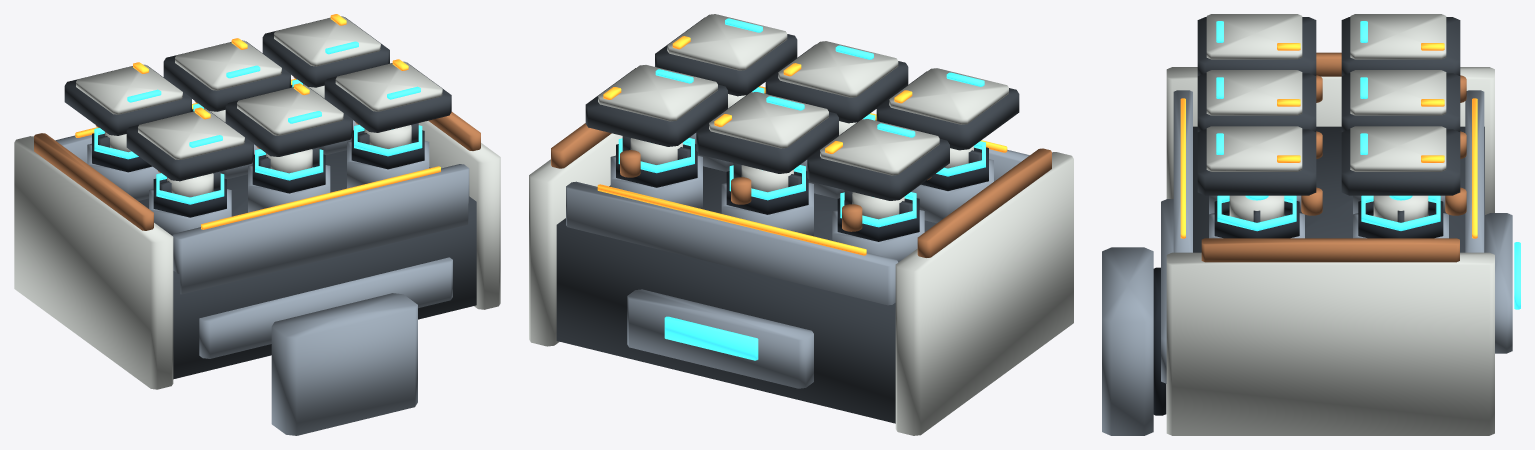
Rendered from M01-022_homing_drone_pod.glb.
3 views of the same model, side by side, from view 1: azimuth 30°, elevation 25°; view 2: azimuth 150°, elevation 25°; view 3: azimuth 270°, elevation 25° (orthographic). The views are drawn at different scales.
Visible parts, largest first — view 1: M01_022_Side_Armor_L, M01_022_Cross_Rail_Lower, M01_022_Mount_Top_Key, M01_022_Rear_Backbone, M01_022_Mount_Cross_Beam, M01_022_Side_Armor_R, M01_022_Side_Conduit_L, M01_022_Door_Ceramic_Face_03, M01_022_Door_Ceramic_Face_06, M01_022_Door_Ceramic_Face_01, M01_022_Door_Ceramic_Face_04, M01_022_Door_Ceramic_Face_05 (+24 smaller); view 2: M01_022_Side_Armor_L, M01_022_Rear_Backbone, M01_022_Cross_Rail_Upper, M01_022_Telemetry_Ridge, M01_022_Side_Armor_R, M01_022_Side_Conduit_L, M01_022_Door_Ceramic_Face_02, M01_022_Door_Ceramic_Face_03, M01_022_Door_Ceramic_Face_01, M01_022_Door_Ceramic_Face_06, M01_022_Door_Ceramic_Face_05, M01_022_Door_Ceramic_Face_04 (+28 smaller); view 3: M01_022_Side_Armor_R, M01_022_Mount_Top_Key, M01_022_Side_Conduit_R, M01_022_Rear_Backbone, M01_022_Side_Armor_L, M01_022_Door_Ceramic_Face_05, M01_022_Door_Ceramic_Face_02, M01_022_Door_Ceramic_Face_03, M01_022_Door_Ceramic_Face_06, M01_022_Door_Ceramic_Face_01, M01_022_Door_Ceramic_Face_04, M01_022_Armored_Door_06 (+22 smaller).
Boxes of the visible parts, x1,y1,x2,y2 form: M01_022_Side_Armor_L: (14, 136, 173, 389); M01_022_Cross_Rail_Lower: (172, 164, 469, 294); M01_022_Mount_Top_Key: (271, 293, 417, 435); M01_022_Rear_Backbone: (138, 150, 476, 379); M01_022_Mount_Cross_Beam: (199, 257, 452, 358); M01_022_Side_Armor_R: (418, 121, 500, 309); M01_022_Side_Conduit_L: (34, 133, 153, 230); M01_022_Door_Ceramic_Face_03: (335, 61, 442, 111); M01_022_Door_Ceramic_Face_06: (274, 16, 380, 66); M01_022_Door_Ceramic_Face_01: (138, 110, 244, 159); M01_022_Door_Ceramic_Face_04: (76, 64, 182, 114); M01_022_Door_Ceramic_Face_05: (175, 40, 281, 90); M01_022_Side_Armor_L: (895, 152, 1073, 435); M01_022_Rear_Backbone: (556, 166, 936, 423); M01_022_Cross_Rail_Upper: (566, 181, 898, 305); M01_022_Telemetry_Ridge: (627, 289, 813, 388); M01_022_Side_Armor_R: (529, 133, 622, 346); M01_022_Side_Conduit_L: (917, 148, 1051, 257); M01_022_Door_Ceramic_Face_02: (778, 41, 898, 97); M01_022_Door_Ceramic_Face_03: (667, 14, 787, 70); M01_022_Door_Ceramic_Face_01: (889, 68, 1008, 124); M01_022_Door_Ceramic_Face_06: (598, 65, 717, 121); M01_022_Door_Ceramic_Face_05: (709, 92, 828, 148); M01_022_Door_Ceramic_Face_04: (820, 119, 939, 175); M01_022_Side_Armor_R: (1166, 252, 1494, 435); M01_022_Mount_Top_Key: (1102, 247, 1153, 435); M01_022_Side_Conduit_R: (1201, 238, 1459, 262); M01_022_Rear_Backbone: (1193, 126, 1484, 252); M01_022_Side_Armor_L: (1166, 67, 1494, 214); M01_022_Door_Ceramic_Face_05: (1350, 70, 1446, 115); M01_022_Door_Ceramic_Face_02: (1206, 70, 1302, 115); M01_022_Door_Ceramic_Face_03: (1206, 126, 1302, 171); M01_022_Door_Ceramic_Face_06: (1350, 126, 1446, 171); M01_022_Door_Ceramic_Face_01: (1206, 14, 1302, 59); M01_022_Door_Ceramic_Face_04: (1350, 14, 1446, 59); M01_022_Armored_Door_06: (1341, 129, 1460, 195).
Bounding box in the file's own units: 1.27 × 0.934 × 1.13.
